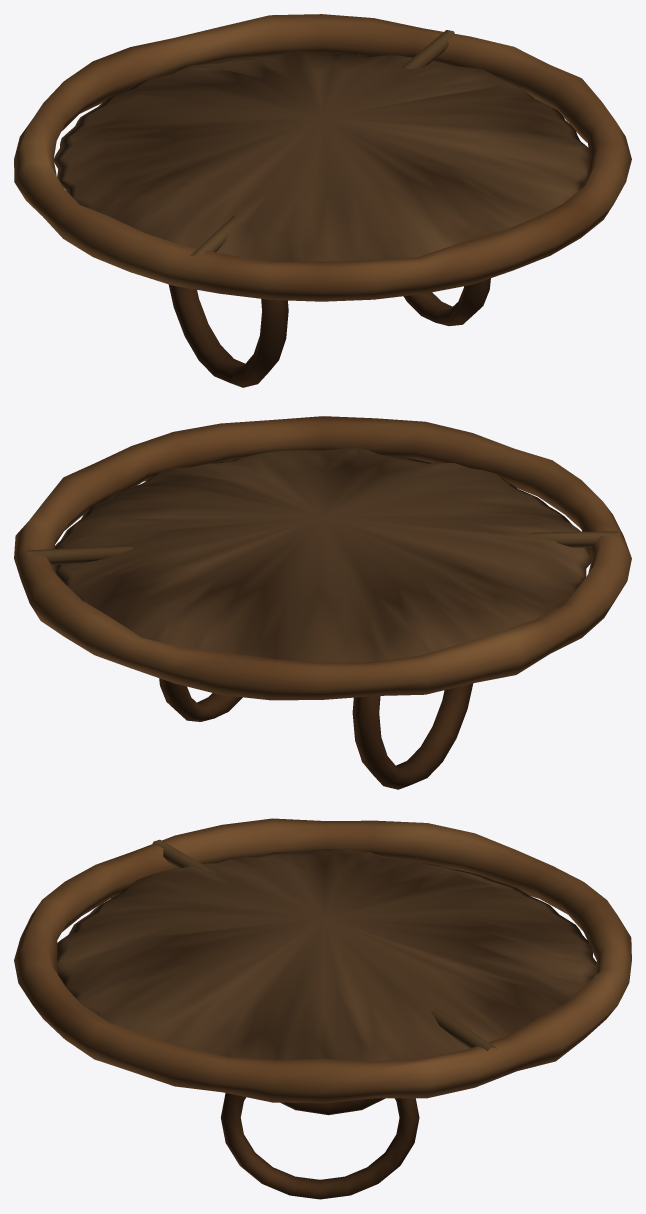
Rendered from bark_shield.glb.
3 views of the same model, one above another, from view 1: azimuth 30°, elevation 25°; view 2: azimuth 150°, elevation 25°; view 3: azimuth 270°, elevation 25° (orthographic).
Visible parts, largest first — view 1: bark_shield__LeftForeArm; view 2: bark_shield__LeftForeArm; view 3: bark_shield__LeftForeArm.
Part boxes in pixels (x1,y1,x2,y2): bark_shield__LeftForeArm: (14,14,631,387); bark_shield__LeftForeArm: (14,416,631,789); bark_shield__LeftForeArm: (14,818,631,1199).
Size of the model in its own units: 0.1704 by 0.074 by 0.1706.
